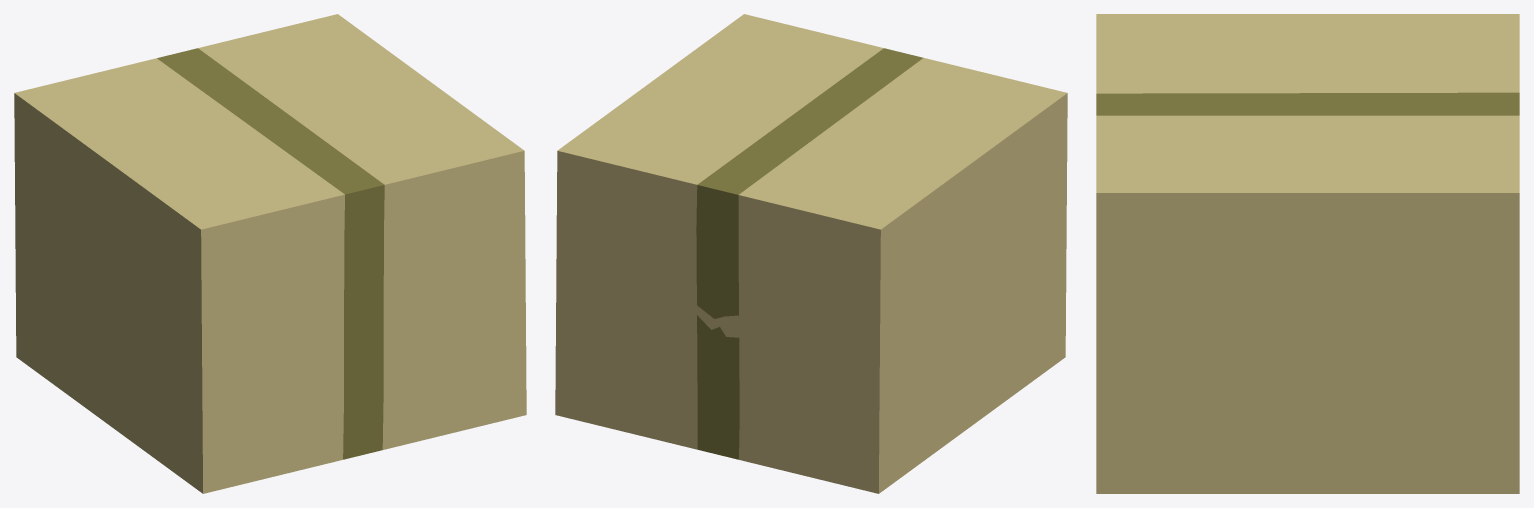
File: BoxClosed.fbx
3 renders of one model, left to right at view 1: azimuth 30°, elevation 25°; view 2: azimuth 150°, elevation 25°; view 3: azimuth 270°, elevation 25°, orthographic. The views are drawn at different scales.
Parts seen in each view (by area): view 1: Cube.001; view 2: Cube.001; view 3: Cube.001.
Part boxes in pixels (bbox=[...]): Cube.001: bbox=[14, 14, 526, 493]; Cube.001: bbox=[555, 14, 1067, 493]; Cube.001: bbox=[1096, 14, 1519, 493].
Bounding box in the file's own units: 728 × 565 × 723.
